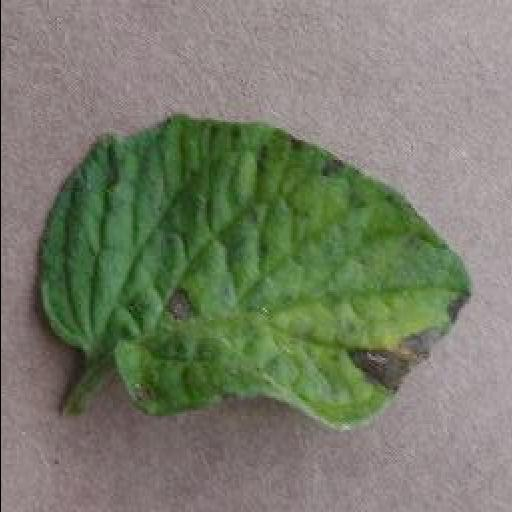Early Blight: (28, 111, 478, 428)
